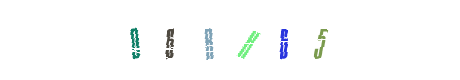0: (112, 0, 192, 80)
5: (250, 0, 330, 80)
6: (175, 0, 255, 80), (243, 0, 323, 80)
H: (208, 0, 288, 80)
R: (190, 0, 270, 80)
